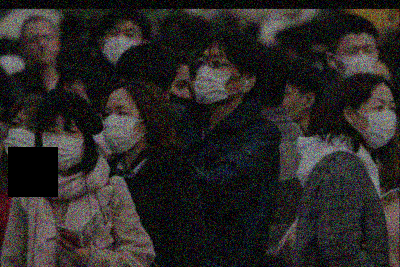with_mask: (40, 122, 87, 171), (3, 114, 41, 171), (100, 103, 142, 154), (192, 52, 231, 103), (361, 97, 398, 150), (101, 25, 143, 66), (341, 42, 378, 79)
without_mask: (23, 31, 60, 64)
